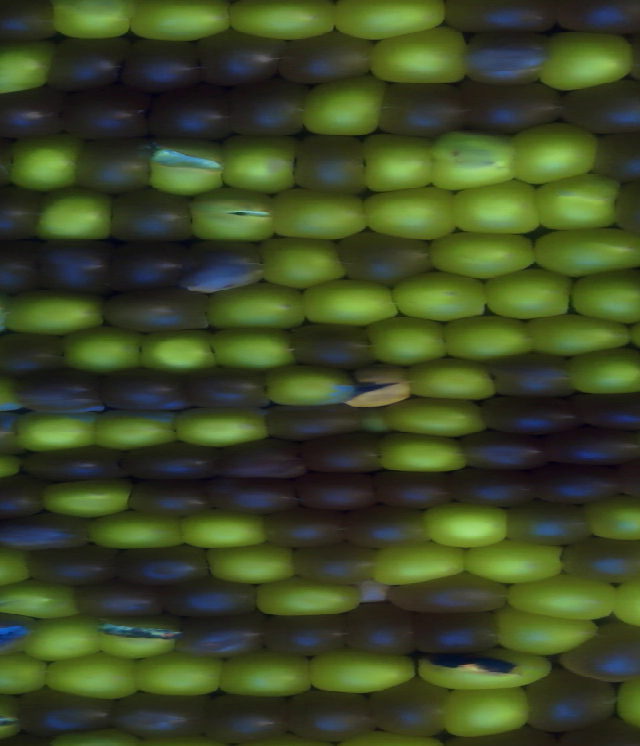fluorescent: (359, 20, 475, 89), (410, 643, 560, 695), (536, 21, 640, 95), (266, 181, 381, 246), (525, 167, 629, 236), (297, 642, 425, 698), (505, 118, 605, 189), (423, 124, 525, 193), (424, 225, 545, 283), (384, 264, 493, 327), (0, 281, 116, 340), (446, 175, 550, 240), (201, 277, 315, 336), (527, 222, 640, 281), (491, 601, 600, 662), (476, 261, 581, 324), (436, 681, 542, 742), (357, 183, 461, 245), (521, 309, 636, 365), (25, 180, 121, 247), (435, 306, 542, 366), (215, 643, 321, 703), (79, 504, 194, 559), (297, 72, 390, 140), (184, 183, 282, 247), (143, 132, 235, 200), (36, 650, 145, 707), (458, 535, 575, 588), (255, 359, 367, 414), (215, 129, 304, 197), (0, 129, 91, 195), (250, 572, 370, 622), (254, 229, 350, 291), (365, 537, 475, 591), (294, 276, 405, 329), (166, 400, 277, 453), (357, 129, 444, 196), (327, 1, 456, 46), (361, 307, 454, 369), (129, 645, 228, 703), (382, 392, 494, 443), (416, 497, 517, 553), (371, 426, 477, 479), (129, 322, 227, 379), (199, 537, 304, 590), (400, 352, 503, 406), (18, 606, 108, 667), (56, 322, 154, 378), (561, 264, 640, 332), (89, 609, 186, 664), (32, 474, 142, 522), (223, 1, 348, 43), (8, 403, 106, 456), (123, 1, 239, 45), (88, 399, 184, 450), (179, 502, 276, 552), (205, 323, 301, 373), (563, 340, 640, 399), (0, 575, 88, 626), (0, 33, 62, 100), (46, 1, 147, 42), (578, 490, 640, 545), (0, 646, 55, 701), (0, 540, 45, 593), (0, 607, 42, 661), (605, 572, 640, 633), (0, 365, 31, 419), (0, 443, 30, 489)
nonfluorescent: (453, 74, 575, 140), (515, 667, 625, 736), (380, 566, 521, 619), (101, 232, 211, 299), (331, 226, 441, 292), (101, 282, 221, 341), (272, 26, 379, 89), (175, 235, 275, 301), (192, 26, 288, 94), (114, 31, 208, 100), (457, 25, 558, 89), (105, 184, 203, 249), (376, 73, 468, 141), (55, 89, 159, 149), (476, 390, 595, 442), (365, 672, 456, 740), (551, 619, 640, 688), (42, 28, 135, 94), (278, 687, 385, 743), (15, 685, 125, 739), (197, 686, 296, 746), (111, 686, 217, 742), (10, 363, 113, 420), (67, 133, 157, 198), (284, 319, 383, 378), (291, 131, 374, 201), (486, 347, 587, 404), (170, 609, 271, 666), (159, 569, 265, 623), (23, 540, 135, 591), (95, 364, 200, 418), (111, 537, 220, 589), (408, 603, 509, 659), (340, 598, 427, 662), (142, 80, 226, 146), (259, 501, 358, 557), (261, 399, 381, 445), (283, 538, 389, 589), (119, 439, 227, 489), (339, 502, 440, 555), (208, 436, 313, 486), (541, 420, 640, 473), (534, 457, 632, 510), (555, 74, 640, 135), (225, 78, 306, 142), (455, 424, 554, 476), (15, 442, 132, 486), (183, 360, 280, 413), (40, 231, 115, 299), (445, 464, 545, 515), (262, 607, 357, 660), (198, 473, 307, 519), (501, 495, 599, 546), (0, 509, 99, 559), (555, 532, 640, 590), (296, 428, 391, 479), (0, 84, 75, 148), (70, 575, 173, 621), (438, 1, 567, 37), (121, 478, 222, 523), (294, 469, 394, 514), (373, 464, 461, 512), (0, 329, 72, 381), (568, 385, 640, 436), (537, 1, 640, 36), (584, 126, 640, 185), (0, 233, 50, 299), (0, 181, 49, 247), (0, 1, 61, 47), (0, 473, 52, 522), (607, 169, 640, 240), (0, 405, 35, 464), (606, 449, 640, 504)
